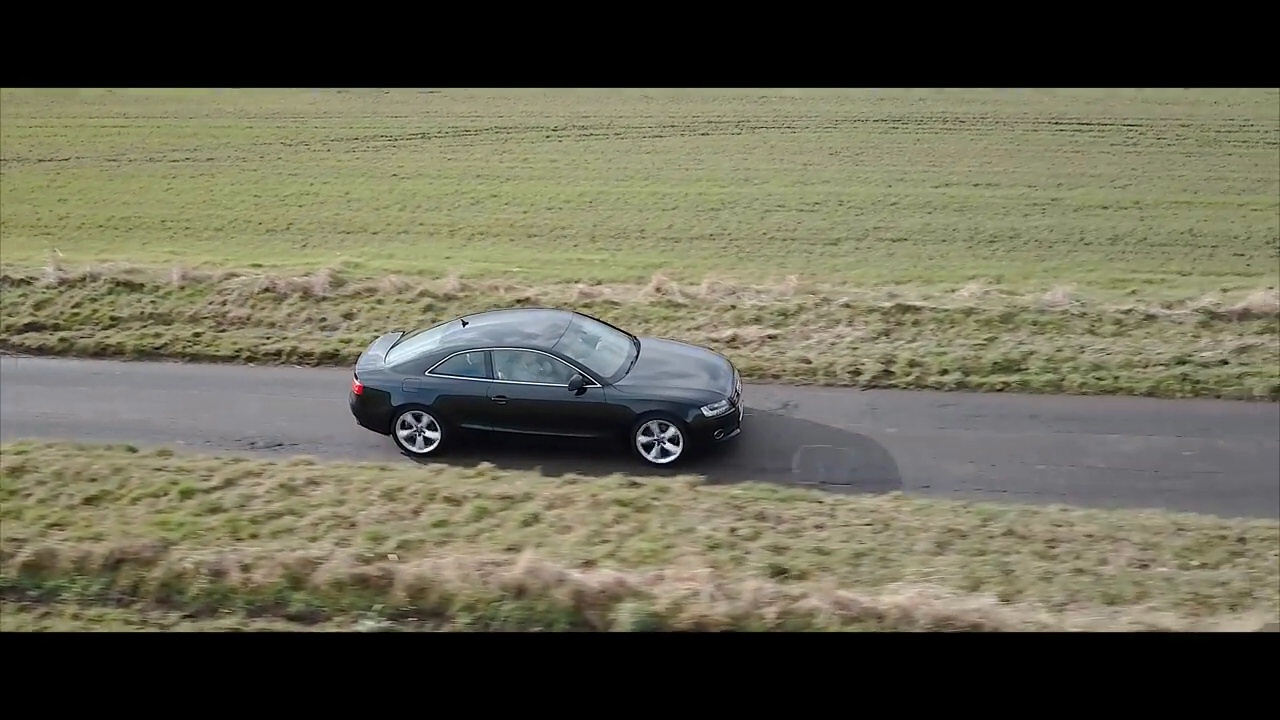araba: (344, 306, 748, 468)
